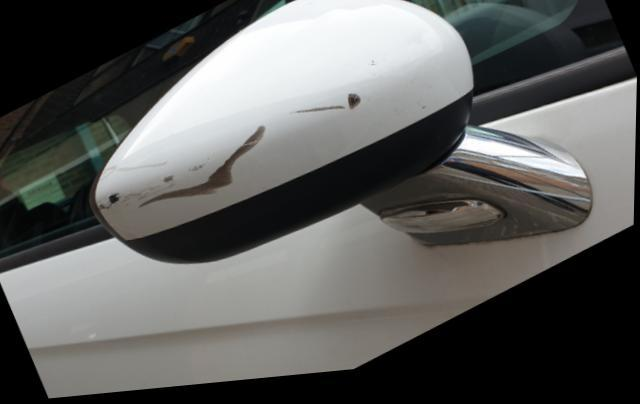scratch: (103, 91, 364, 219)
